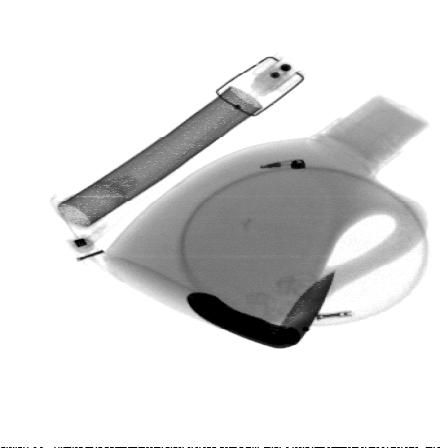Knife: (183, 269, 338, 352)
